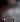with_mask: (1, 1, 20, 22)
